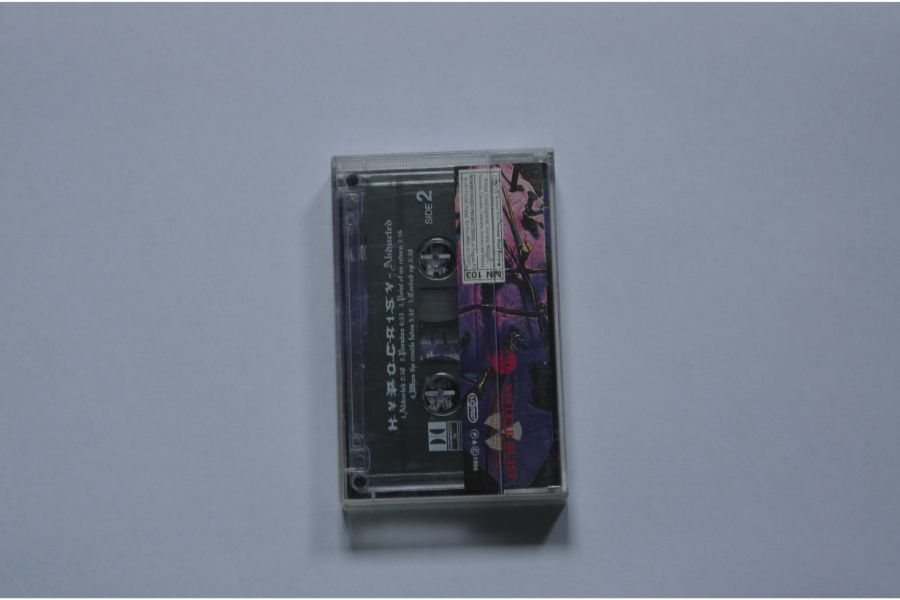album: (327, 147, 574, 509)
